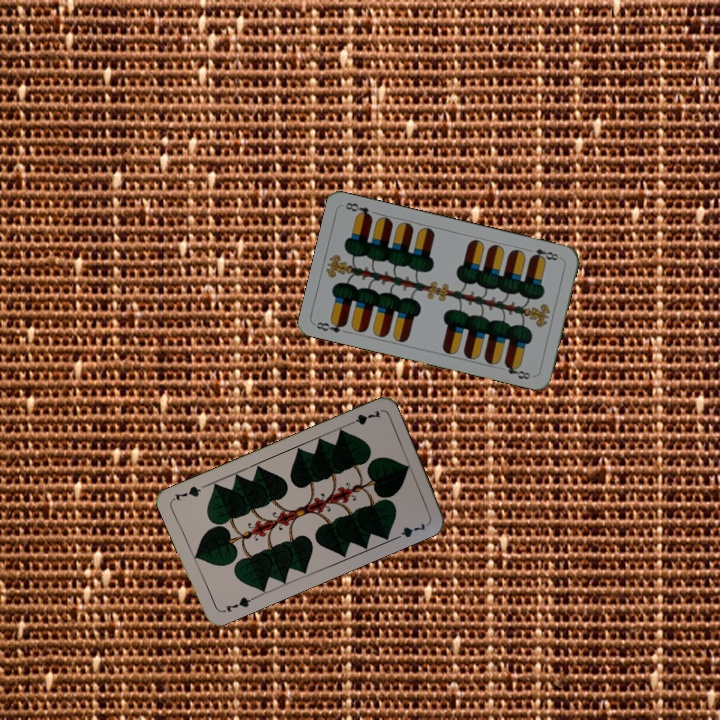E8: (312, 316, 352, 336), (527, 244, 564, 263)
G7: (343, 406, 383, 429), (218, 593, 257, 615)
